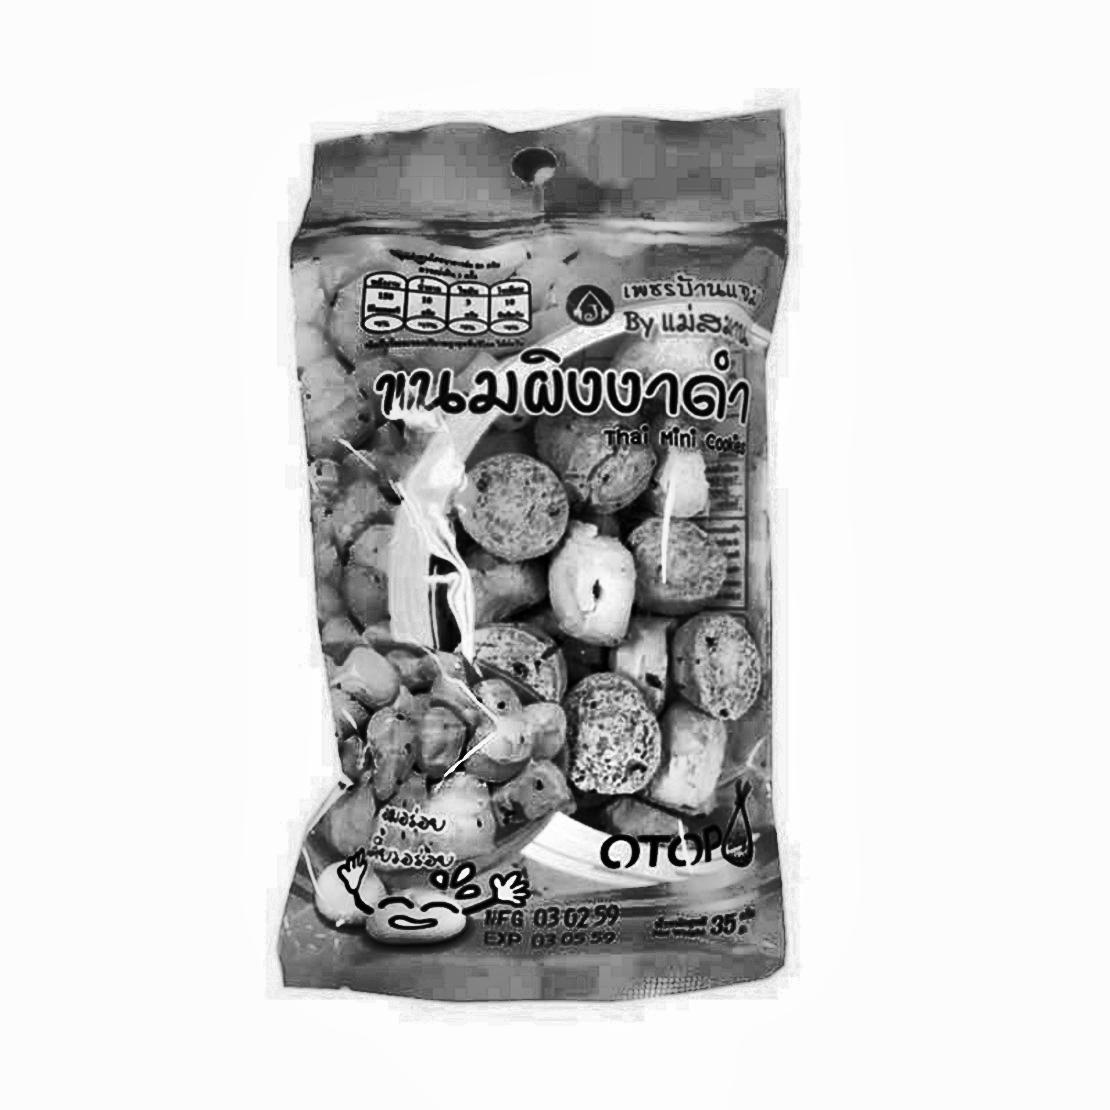snackbag: (211, 66, 884, 1051)
